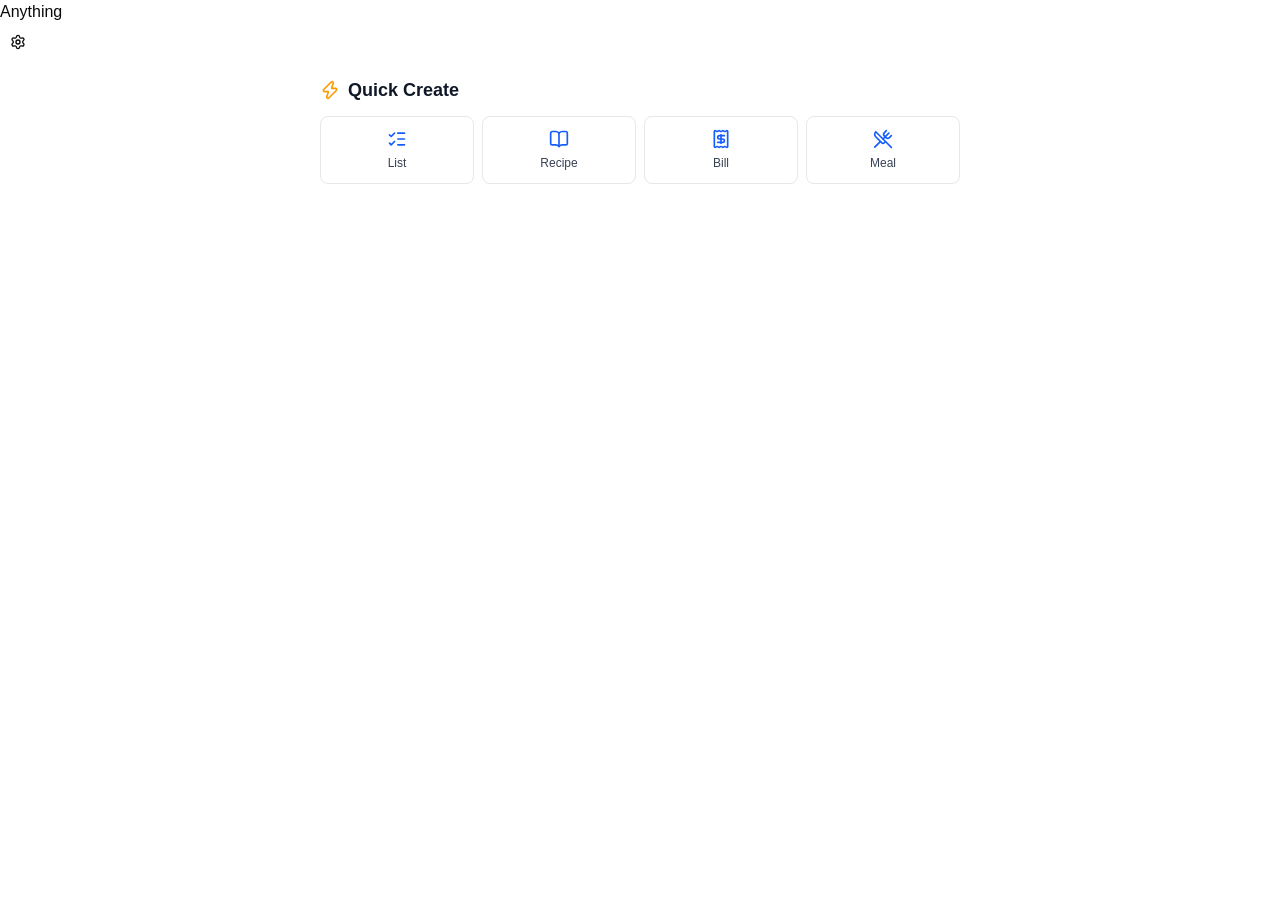
Test: Home Page Integration Tests › should open the create list dialog from the Quick Create card
This screenshot has width=1280, height=900.
Click the button "List": x=397, y=150 [320,116,474,184]
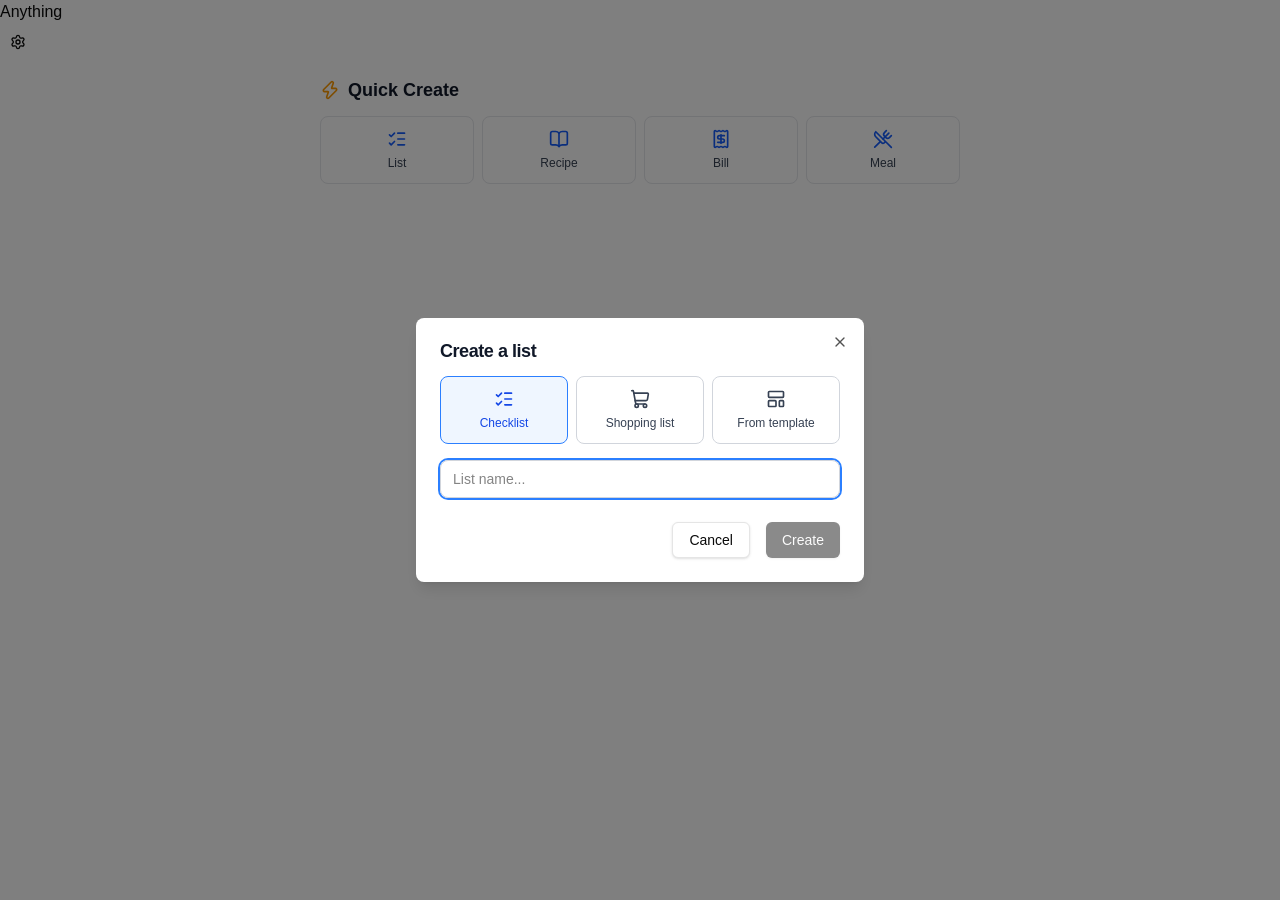
expect the heading "Create a list" is shown: met, box [440,341,536,361]
